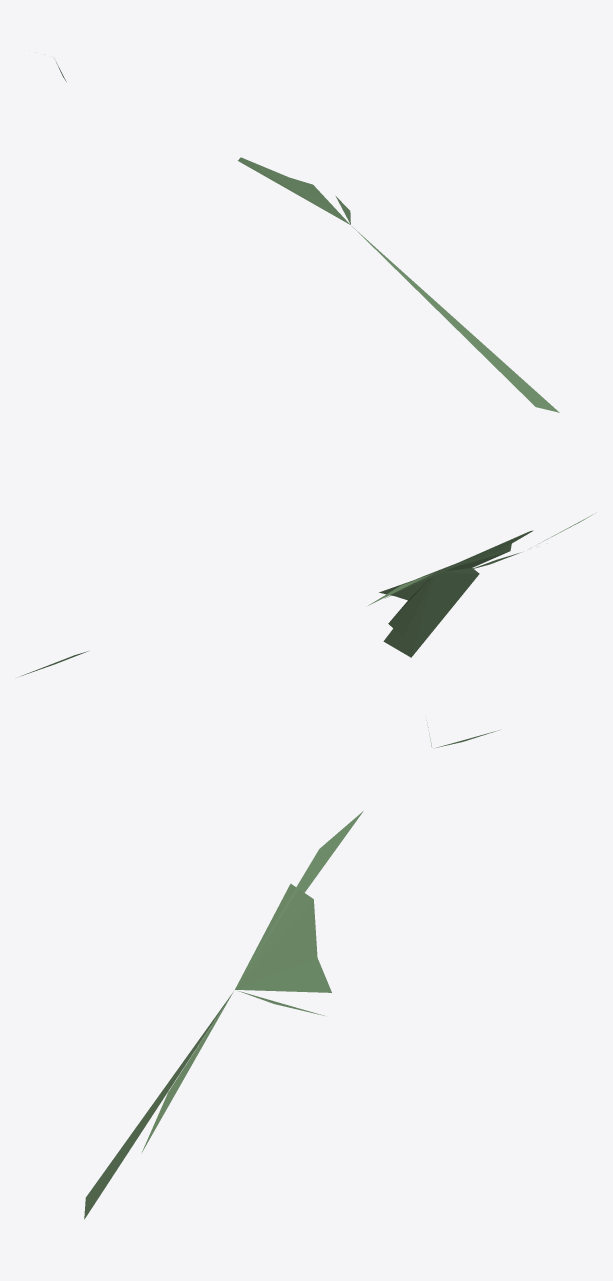
File: c_1665_17822_forest.glb
3 renders of one model, top to bottom at view 1: azimuth 30°, elevation 25°; view 2: azimuth 150°, elevation 25°; view 3: azimuth 270°, elevation 25°, orthographic. The views are drawn at different scales.
Parts seen in each view (by area): view 1: geometry_0; view 2: geometry_0; view 3: geometry_0.
Part boxes in pixels (left/top/right/bottom): geometry_0: left=56, top=62, right=559, bottom=412; geometry_0: left=19, top=512, right=596, bottom=676; geometry_0: left=84, top=720, right=499, bottom=1219.
Bounding box in the file's own units: 253 × 170 × 240.
